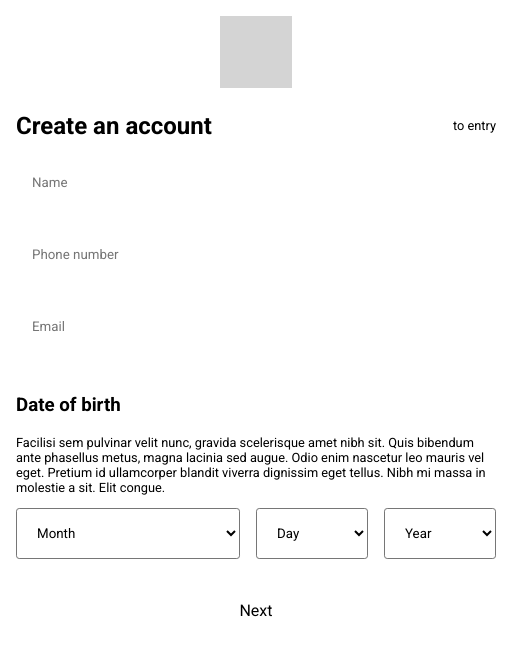
Test case: SignUp Component › shows validation errors and disables button for invalid data
Type "b" into the field with placeholder "Name" at [255, 183], box [16, 160, 494, 206]
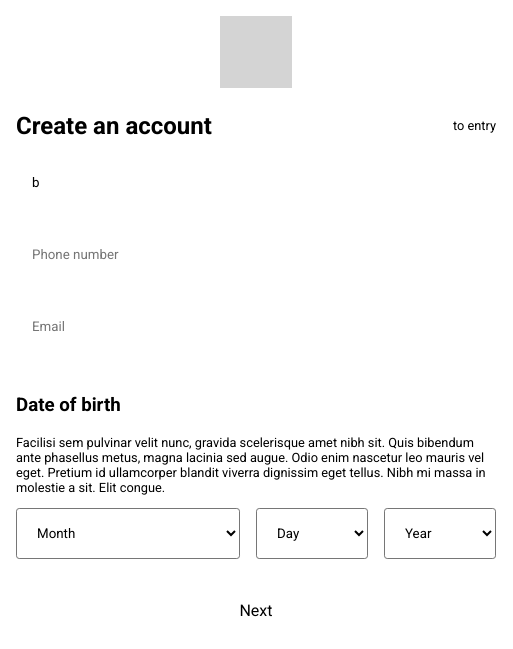
Type "55" into the field with placeholder "Phone number" at [255, 255], box [16, 232, 494, 278]
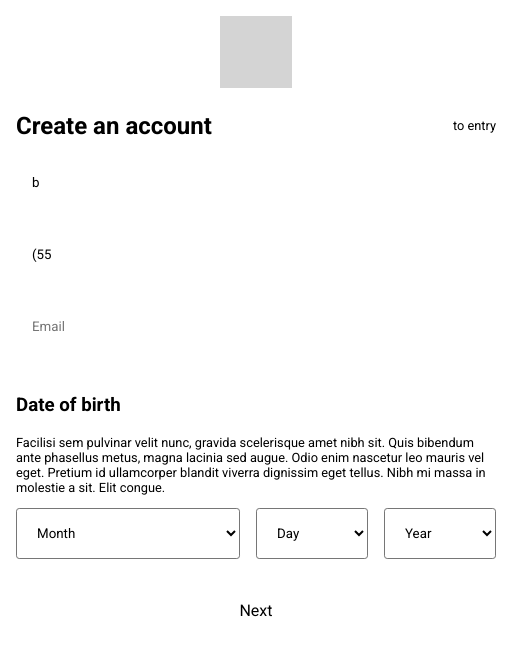
Type "invalid-email" into the field with placeholder "Email" at [255, 327], box [16, 304, 494, 350]
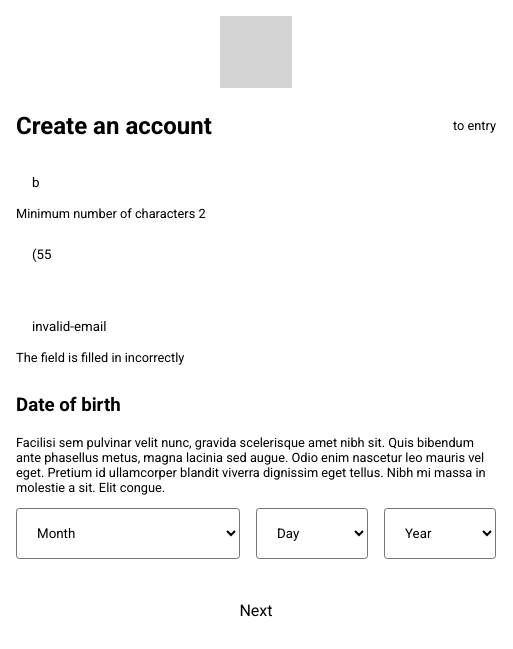
expect the button "Next" is disabled: met, box [16, 588, 496, 632]
expect the text "The field is filled in incorrectly" is shown: met, box [16, 350, 184, 366]
expect the text "Minimum number of characters 2" is shown: met, box [16, 206, 206, 222]
